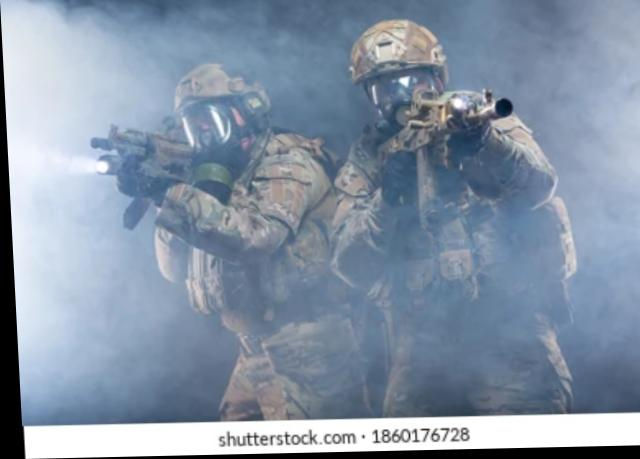other: (333, 31, 561, 409), (139, 70, 345, 409)
